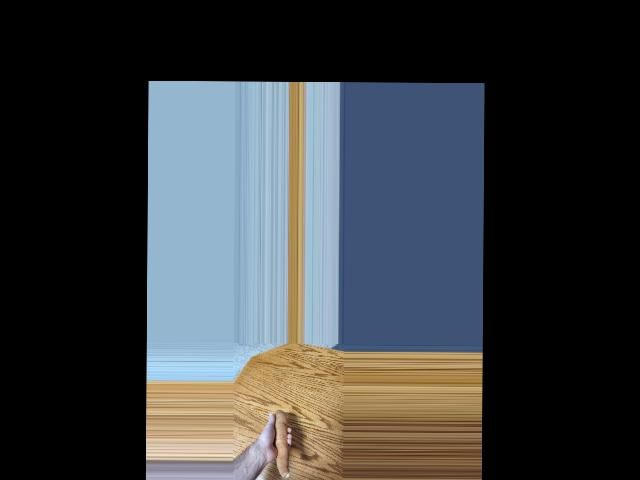sweet_potato: (268, 412, 289, 479)
